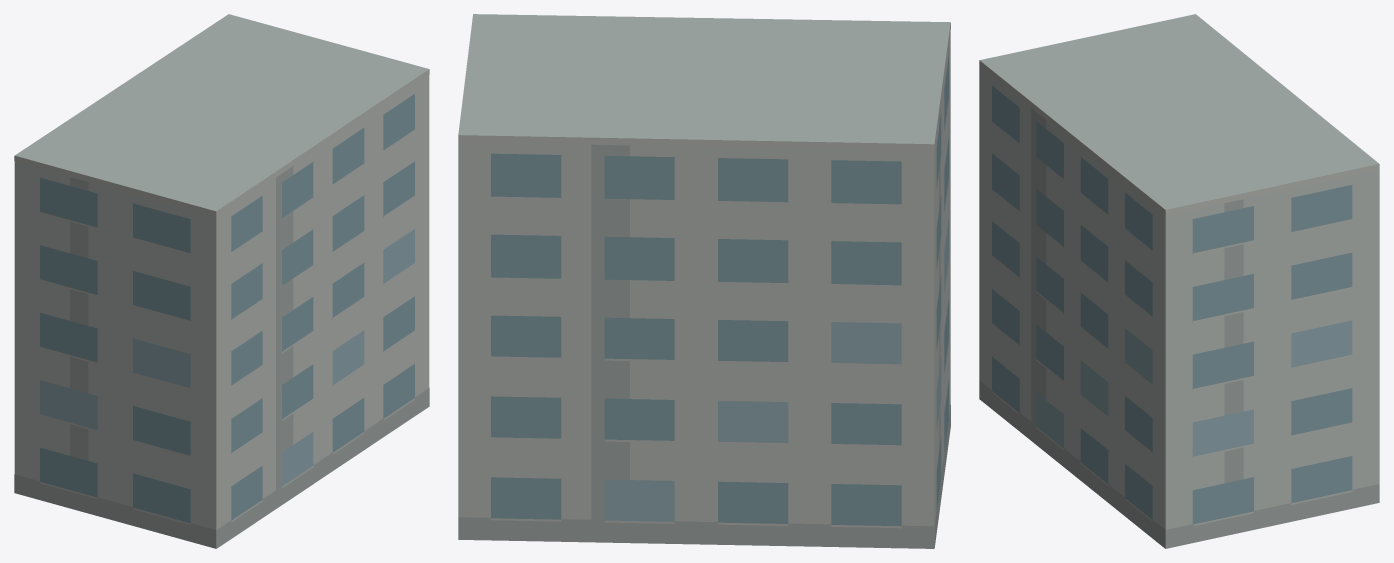
Rendered from survey-upis-33013976.glb.
3 views of the same model, side by side, from view 1: azimuth 30°, elevation 25°; view 2: azimuth 150°, elevation 25°; view 3: azimuth 270°, elevation 25° (orthographic). The views are drawn at different scales.
Parts seen in each view (by area): view 1: survey-upis-33013976.tmp; view 2: survey-upis-33013976.tmp; view 3: survey-upis-33013976.tmp.
Part boxes in pixels (<box>): survey-upis-33013976.tmp: <box>14,14,429,548</box>; survey-upis-33013976.tmp: <box>458,14,950,548</box>; survey-upis-33013976.tmp: <box>979,14,1379,548</box>.
Bounding box in the file's own units: 17.18 × 13.85 × 14.82.
